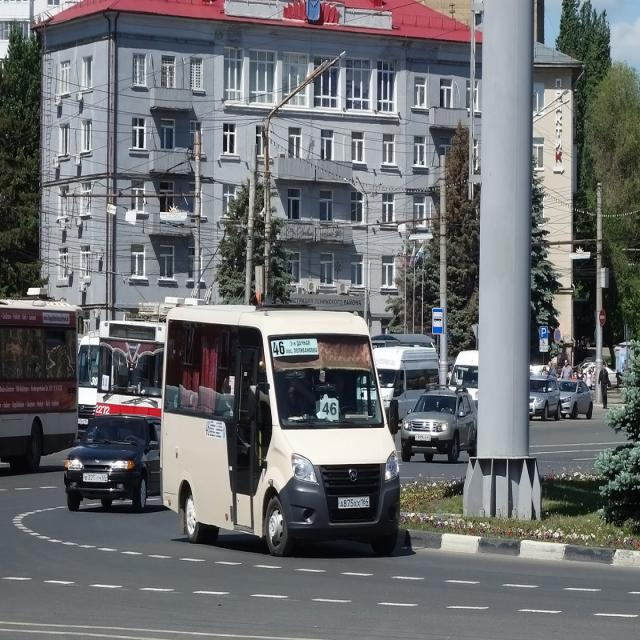number-of-bus: (322, 400, 340, 420), (273, 341, 288, 357)
